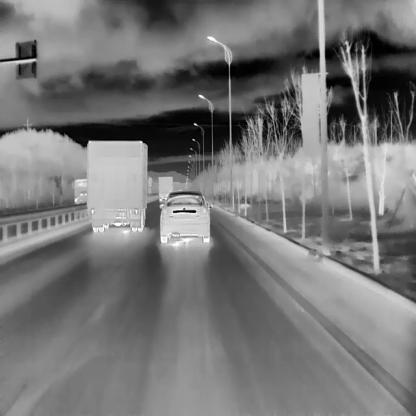car: (86, 139, 151, 231), (159, 189, 211, 243), (158, 176, 173, 201), (74, 177, 87, 203)
